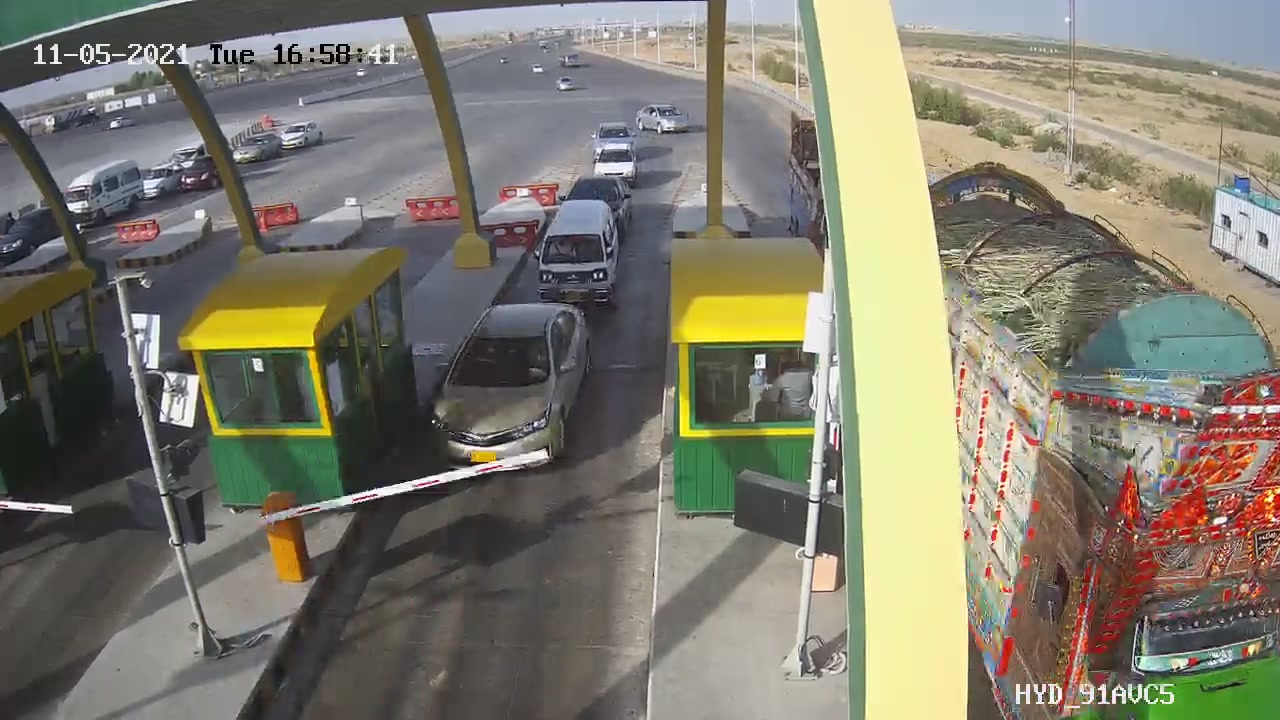F1: (411, 288, 609, 486), (519, 184, 637, 329)
